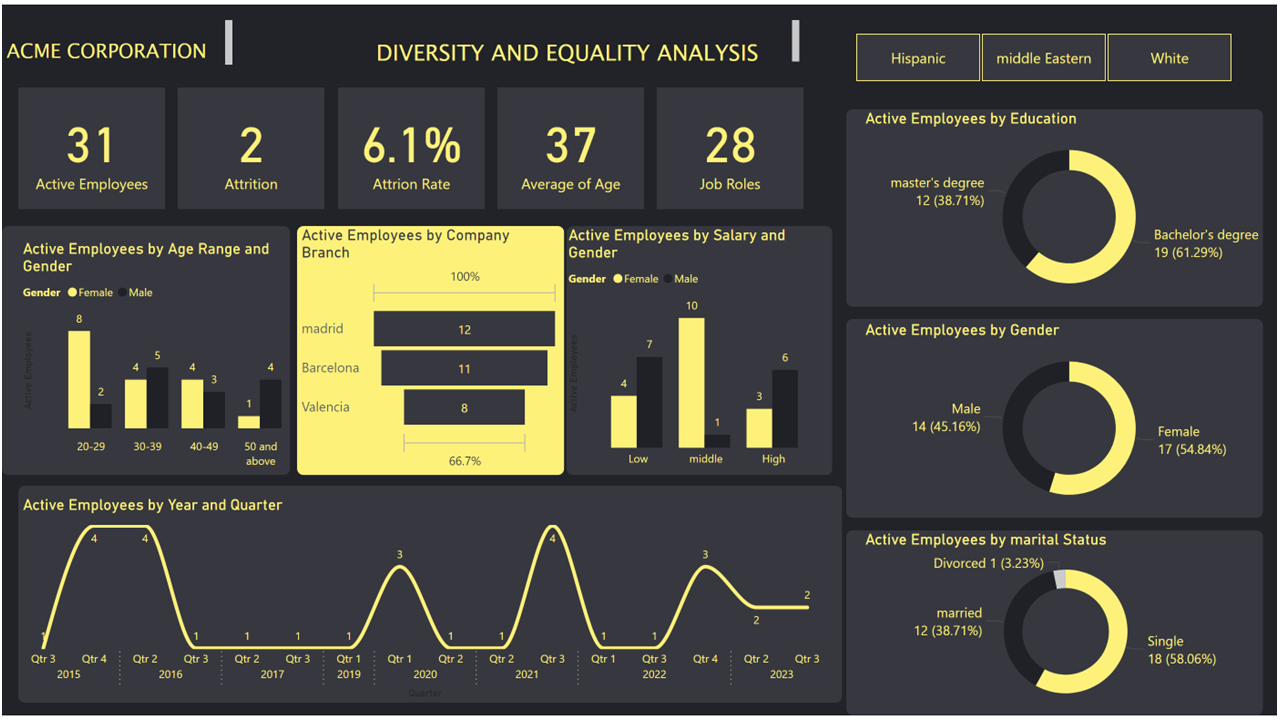

This screenshot's page, from the dashboard's own definition file:
{"tool":"powerbi","page":{"name":"Page 1","canvas":[1400,780],"ordinal":0},"visuals":[{"type":"shape","box":[0,242.6,316.3,273.3],"z":0},{"type":"shape","box":[324,242.6,293.3,273.3],"z":1000},{"type":"shape","box":[620.3,242.6,291.7,273.3],"z":2000},{"type":"shape","box":[927.4,115.2,457.6,216.5],"z":3000},{"type":"shape","box":[927.4,345.5,457.6,218],"z":4000},{"type":"shape","box":[927.4,577.3,457.6,202.7],"z":5000},{"type":"shape","box":[18.4,528.2,904.4,238],"z":6000},{"type":"card","fields":{"Values":["Calculated Measures.Active Employees"]},"box":[18.4,90.6,161.2,133.6],"z":7000},{"type":"card","fields":{"Values":["Calculated Measures.Attrition"]},"box":[193.5,90.6,161.2,133.6],"z":8000},{"type":"card","fields":{"Values":["Calculated Measures.Attrion Rate"]},"box":[368.5,90.6,161.2,133.6],"z":9000},{"type":"card","fields":{"Values":["Avg(Employee_data.Age)"]},"box":[543.5,90.6,161.2,133.6],"z":10000},{"type":"card","fields":{"Values":["Count(Employee_data.Job Role)"]},"box":[718.6,90.6,161.2,133.6],"z":11000},{"type":"clusteredColumnChart","fields":{"Y":["Calculated Measures.Active Employees"],"Category":["Employee_data.Age Range"],"Series":["Employee_data.Gender"]},"box":[18.4,258,320.9,258],"z":12000},{"type":"clusteredColumnChart","fields":{"Y":["Calculated Measures.Active Employees"],"Category":["Employee_data.Salary"],"Series":["Employee_data.Gender"]},"box":[617.2,242.6,294.8,273.3],"z":13000},{"type":"funnel","fields":{"Y":["Calculated Measures.Active Employees"],"Category":["Employee_data.Company Branch"]},"box":[324,242.6,293.3,273.3],"z":14000},{"type":"donutChart","fields":{"Category":["Employee_data.Education"],"Y":["Calculated Measures.Active Employees"]},"box":[942.8,115.2,457.6,216.5],"z":15000},{"type":"donutChart","fields":{"Category":["Employee_data.Gender"],"Y":["Calculated Measures.Active Employees"]},"box":[942.8,347,457.6,216.5],"z":16000},{"type":"donutChart","fields":{"Category":["Employee_data.marital Status"],"Y":["Calculated Measures.Active Employees"]},"box":[942.8,577.3,449.9,202.7],"z":17000},{"type":"lineChart","fields":{"Category":["Calendar_Dim.Date.Variation.Date Hierarchy.Year","Calendar_Dim.Date.Variation.Date Hierarchy.Quarter","Calendar_Dim.Date.Variation.Date Hierarchy.Month"],"Y":["Calculated Measures.Active Employees"]},"box":[18.4,538.9,893.6,227.2],"z":18000},{"type":"slicer","fields":{"Values":["Employee_data.Race/Ethnicity"]},"box":[912,24.6,462.2,66],"z":19000},{"type":"textbox","box":[0,12.3,258,59.9],"z":20000},{"type":"textbox","box":[368.5,12.3,511.3,59.9],"z":21000}]}

Visuals, with their boxes in screenshot pixels (x1, y1, x2, y2), scaled from the page's 1400x780 canvas onto the 1280x720 screenshot:
shape: left=0, top=224, right=289, bottom=476
shape: left=296, top=224, right=564, bottom=476
shape: left=567, top=224, right=834, bottom=476
shape: left=848, top=106, right=1266, bottom=306
shape: left=848, top=319, right=1266, bottom=520
shape: left=848, top=533, right=1266, bottom=719
shape: left=17, top=488, right=844, bottom=707
card - Calculated Measures.Active Employees: left=17, top=84, right=164, bottom=207
card - Calculated Measures.Attrition: left=177, top=84, right=324, bottom=207
card - Calculated Measures.Attrion Rate: left=337, top=84, right=484, bottom=207
card - Avg(Employee_data.Age): left=497, top=84, right=644, bottom=207
card - Count(Employee_data.Job Role): left=657, top=84, right=804, bottom=207
clusteredColumnChart - Calculated Measures.Active Employees x Employee_data.Age Range: left=17, top=238, right=310, bottom=476
clusteredColumnChart - Calculated Measures.Active Employees x Employee_data.Salary: left=564, top=224, right=834, bottom=476
funnel - Calculated Measures.Active Employees x Employee_data.Company Branch: left=296, top=224, right=564, bottom=476
donutChart - Employee_data.Education x Calculated Measures.Active Employees: left=862, top=106, right=1279, bottom=306
donutChart - Employee_data.Gender x Calculated Measures.Active Employees: left=862, top=320, right=1279, bottom=520
donutChart - Employee_data.marital Status x Calculated Measures.Active Employees: left=862, top=533, right=1273, bottom=719
lineChart - Calendar_Dim.Date.Variation.Date Hierarchy.Year x Calendar_Dim.Date.Variation.Date Hierarchy.Quarter: left=17, top=497, right=834, bottom=707
slicer - Employee_data.Race/Ethnicity: left=834, top=23, right=1256, bottom=84
textbox: left=0, top=11, right=236, bottom=67
textbox: left=337, top=11, right=804, bottom=67
